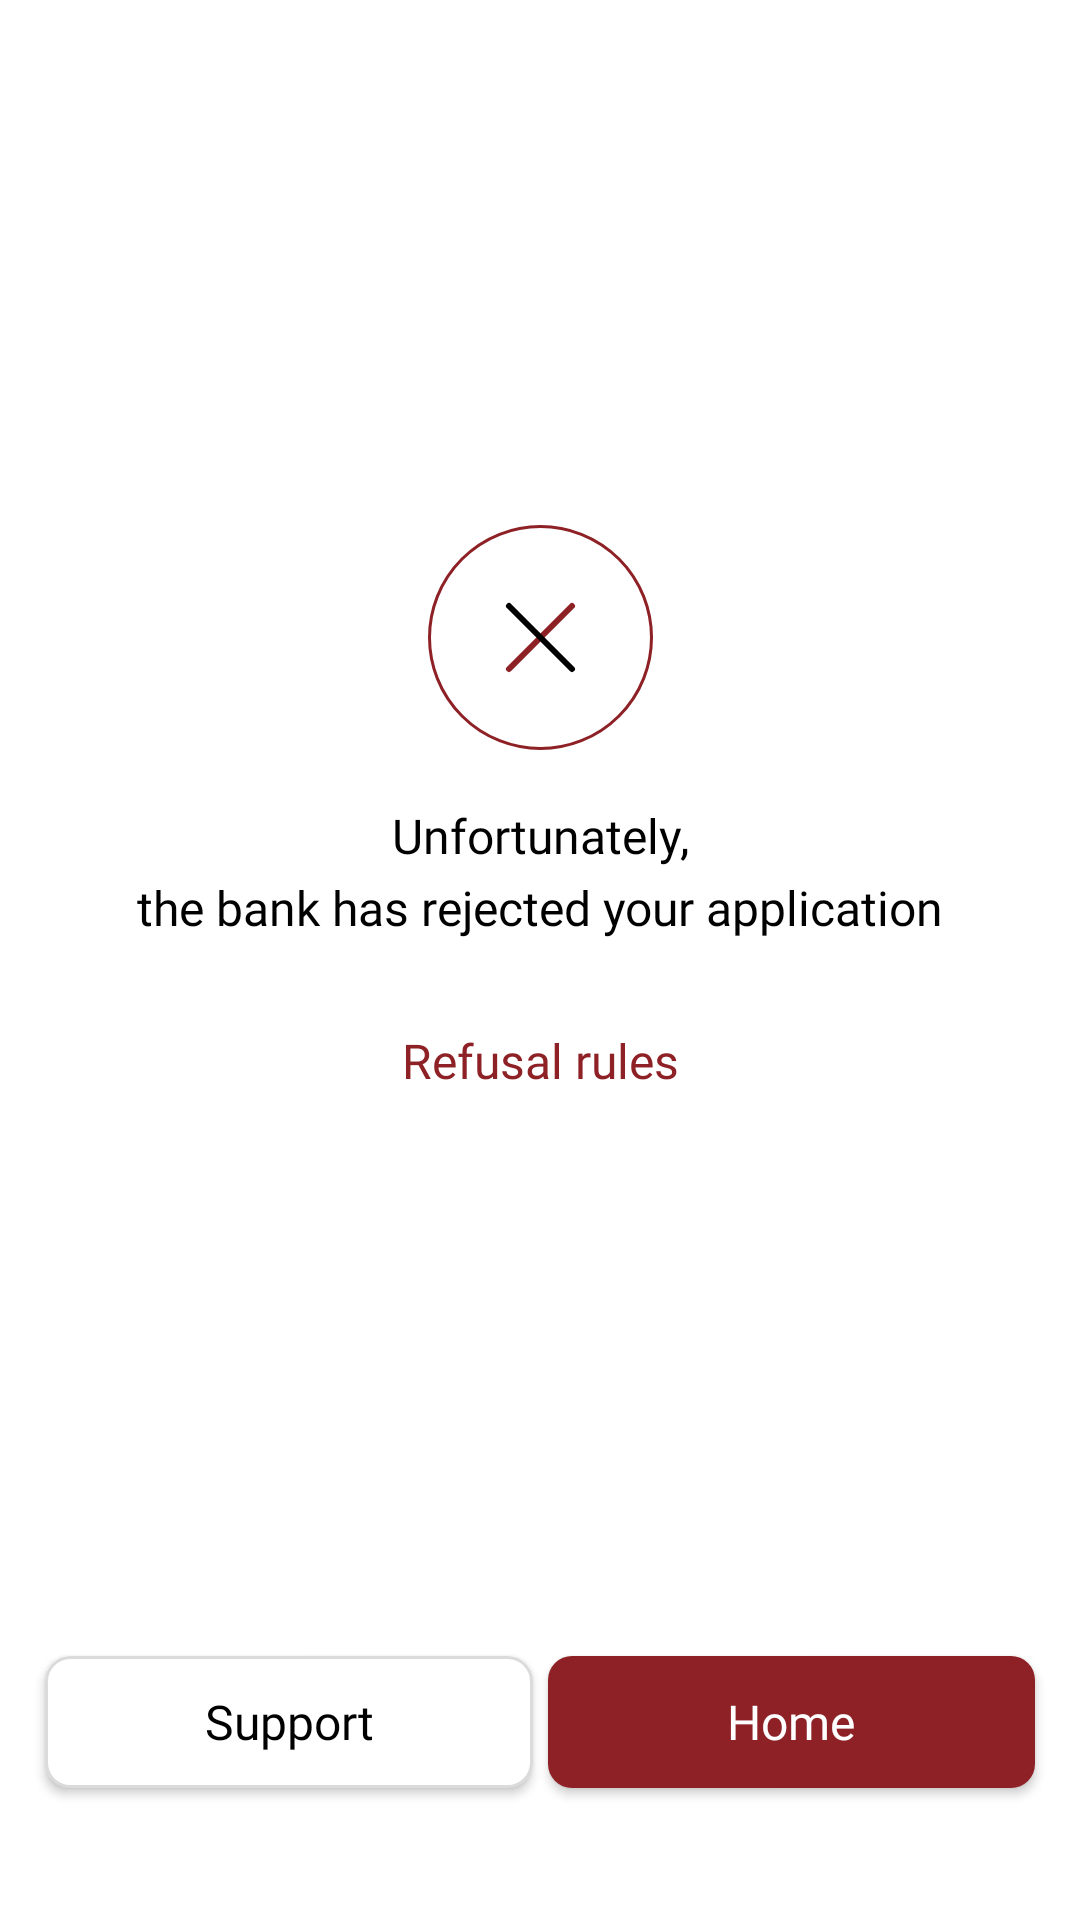

Locate icon controls on the screen. Image size 1080 × 1920, boxes as (x1, y1, x2, y2).
bank auth reject: (428, 525, 653, 750)
